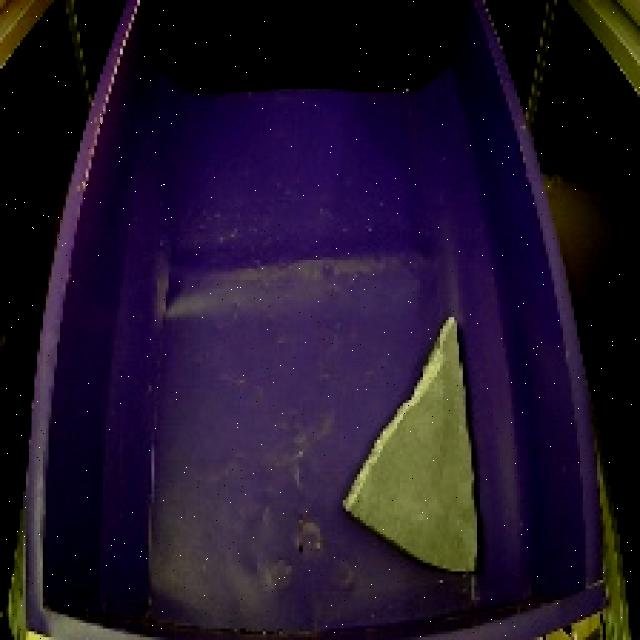china: (335, 302, 490, 585)
